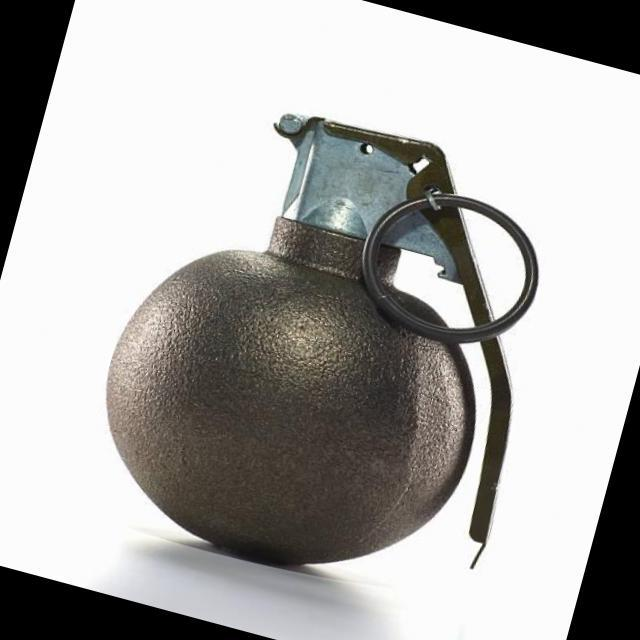grenade: (49, 70, 616, 624)
